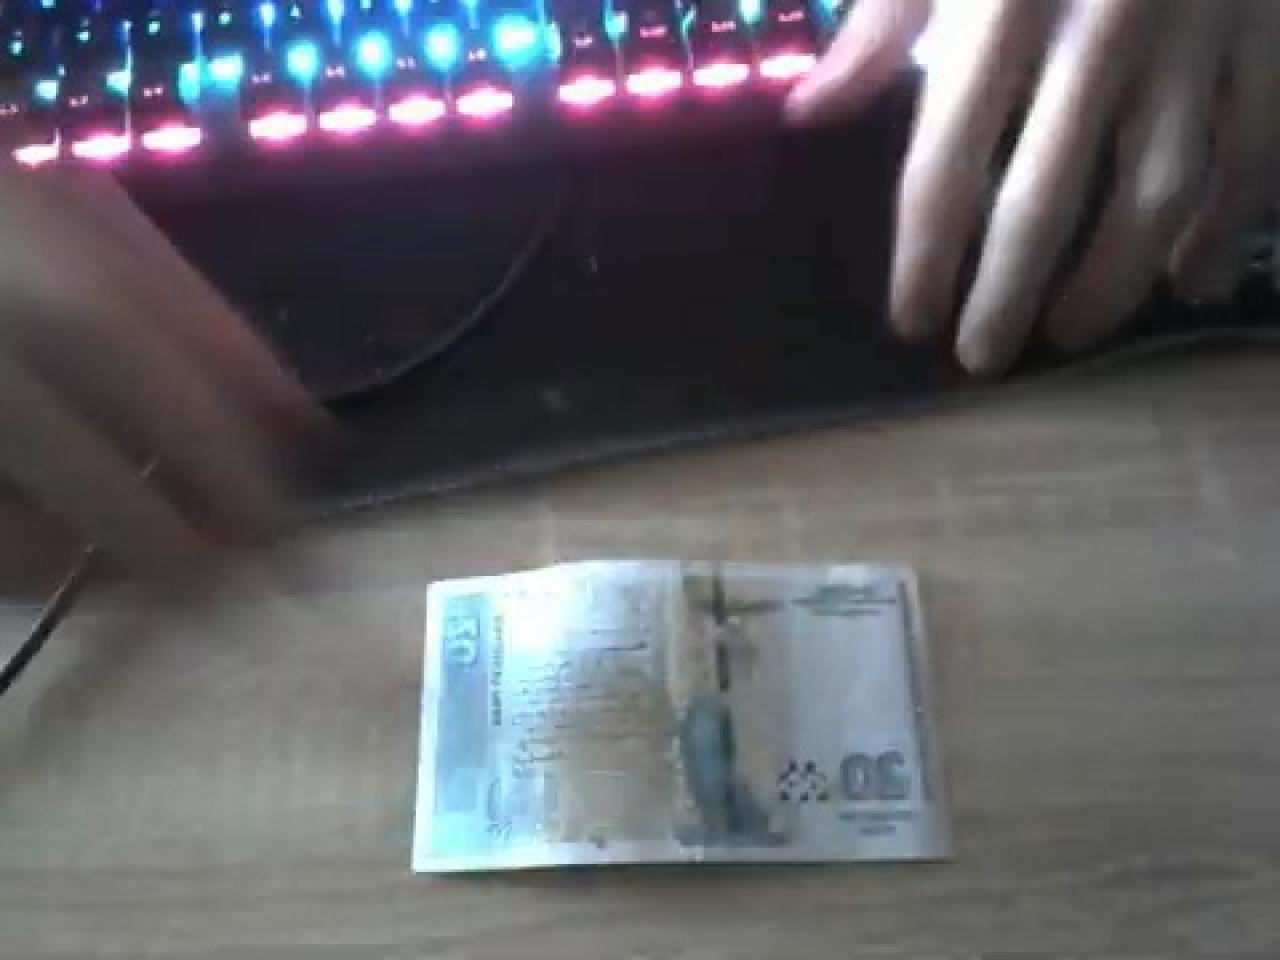20leva: (411, 553, 957, 874)
